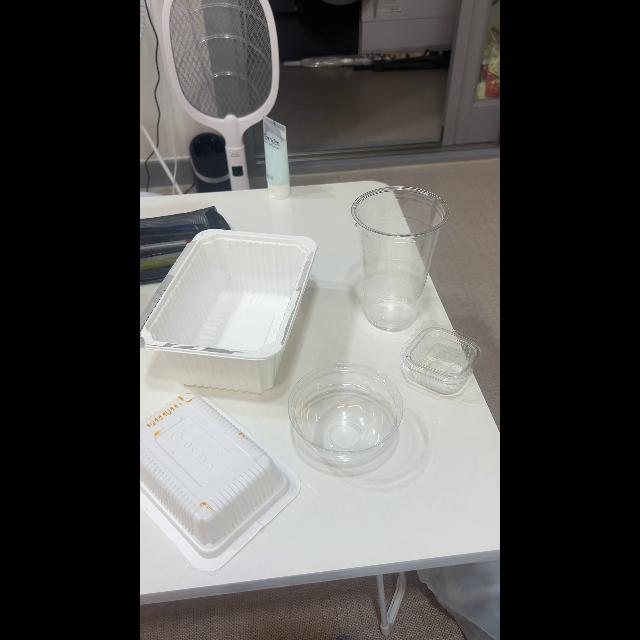clean: (140, 230, 314, 392), (294, 368, 406, 468), (352, 193, 426, 329), (405, 332, 481, 394)
dirty: (142, 390, 278, 548)
